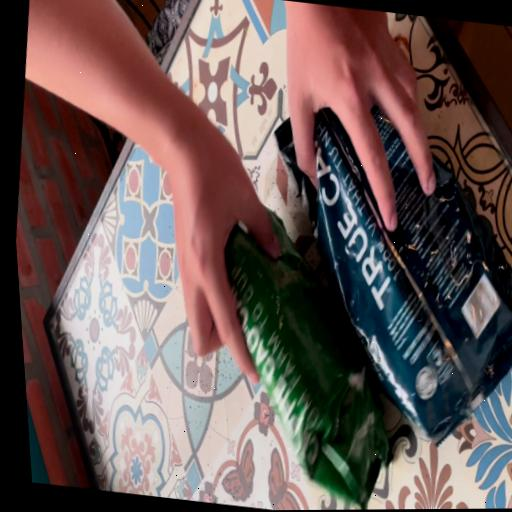cafe_hat: (348, 226, 368, 247)
cafe_xay: (276, 107, 512, 442), (226, 211, 389, 510)
